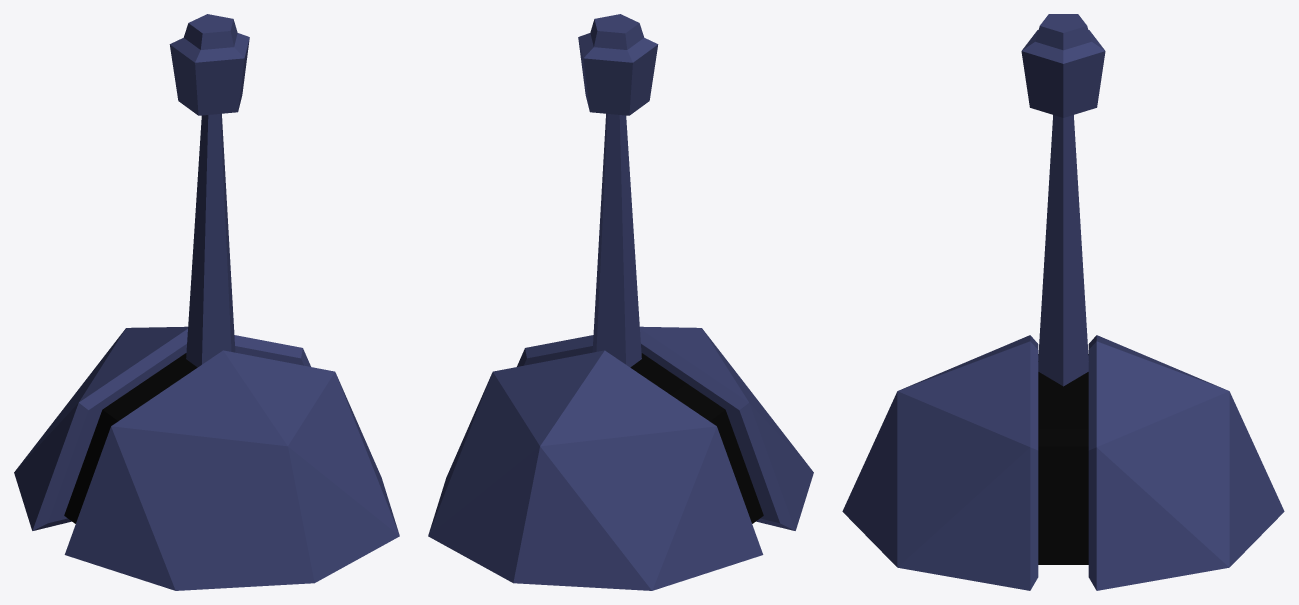
The model's file is Lever.FBX.
3 views of the same model, side by side, from view 1: azimuth 30°, elevation 25°; view 2: azimuth 150°, elevation 25°; view 3: azimuth 270°, elevation 25° (orthographic). The views are drawn at different scales.
Visible parts, largest first — view 1: GeoSphere003, Object044; view 2: GeoSphere003, Object044; view 3: GeoSphere003, Object044.
Part boxes in pixels (x1=…): GeoSphere003: x1=14, y1=326, x2=399, y2=590; Object044: x1=169, y1=14, x2=249, y2=367; GeoSphere003: x1=428, y1=326, x2=813, y2=590; Object044: x1=578, y1=14, x2=658, y2=367; GeoSphere003: x1=842, y1=335, x2=1284, y2=590; Object044: x1=1021, y1=14, x2=1105, y2=386.
Size of the model in its own units: 28.16 by 40.65 by 33.13.
